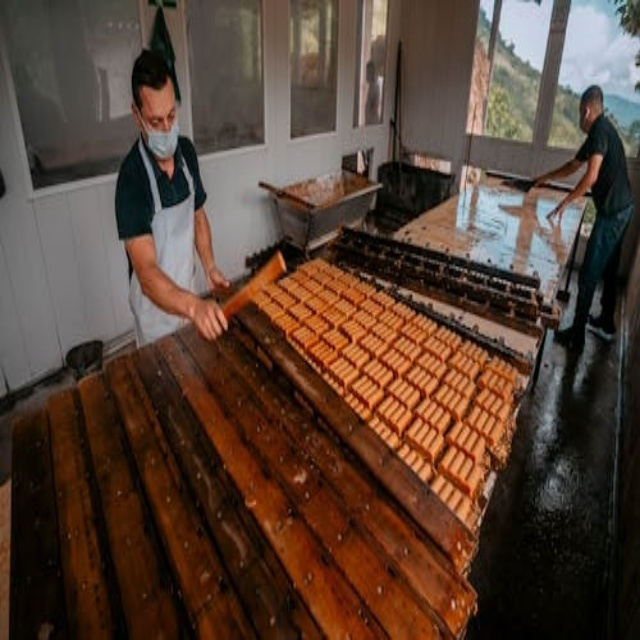Mascara: (138, 118, 178, 155)
Sin_gafas: (140, 100, 180, 129)
Sin_guantes: (192, 296, 229, 341), (208, 271, 232, 298), (545, 202, 561, 223)
